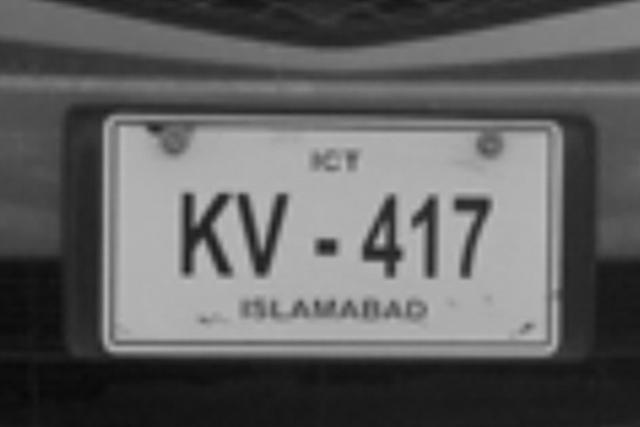Number: (182, 192, 494, 282)
